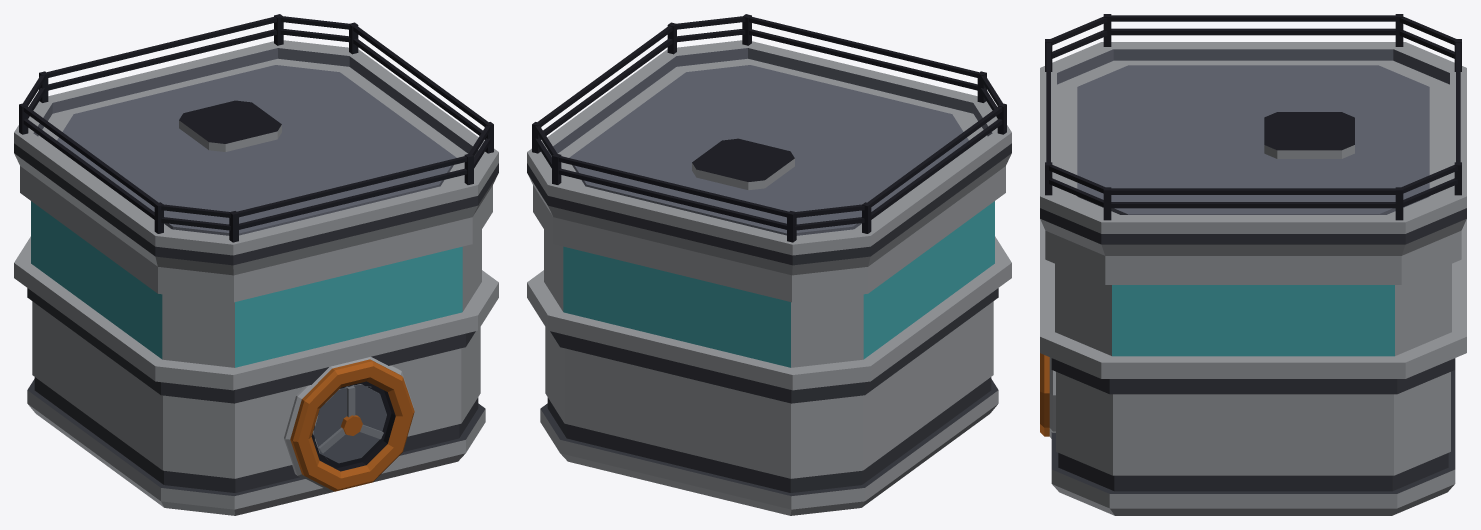
Rendered from command-center-e65850.glb.
3 renders of one model, left to right at view 1: azimuth 30°, elevation 25°; view 2: azimuth 150°, elevation 25°; view 3: azimuth 270°, elevation 25°, orthographic. The views are drawn at different scales.
Visible parts, largest first — view 1: hull, railing, hatch; view 2: hull, railing; view 3: hull, railing.
Boxes of the visible parts, x1,y1,x2,y2 form: hull: [14, 40, 498, 515]; railing: [19, 14, 493, 242]; hatch: [313, 384, 386, 463]; hull: [527, 40, 1011, 515]; railing: [532, 14, 1006, 242]; hull: [1040, 42, 1466, 515]; railing: [1045, 14, 1461, 220].
Bounding box in the file's own units: 8 × 6.86 × 8.
